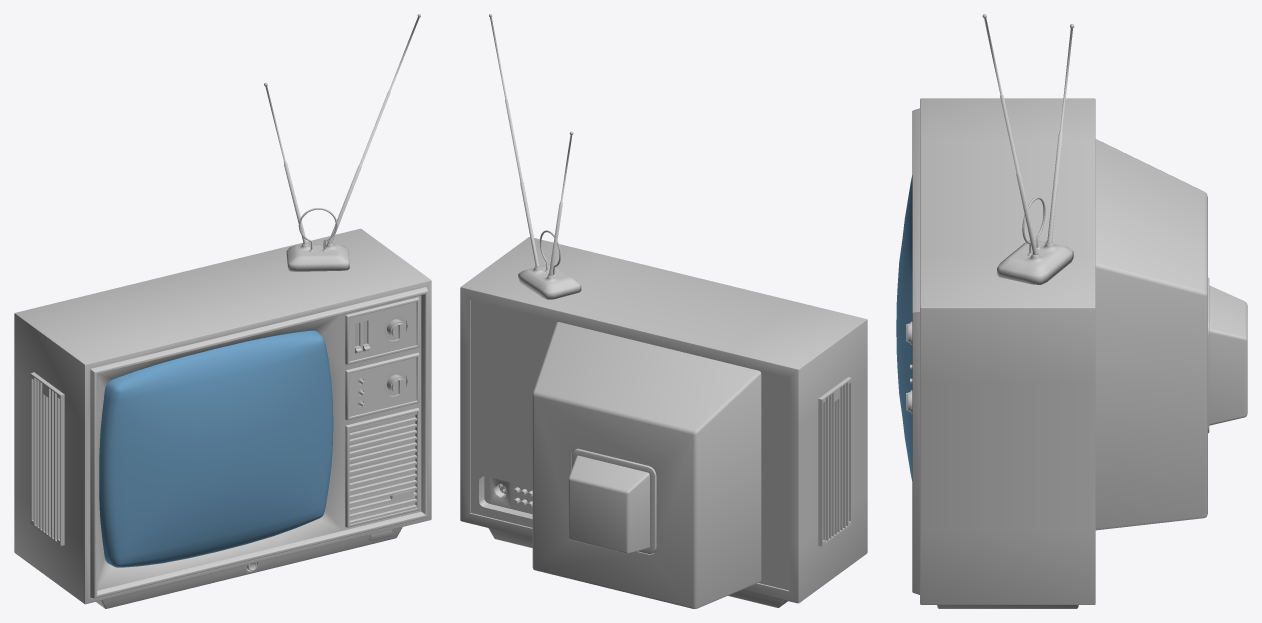
The model's file is Build.fbx.
3 renders of one model, left to right at view 1: azimuth 30°, elevation 25°; view 2: azimuth 150°, elevation 25°; view 3: azimuth 270°, elevation 25°, orthographic. The views are drawn at different scales.
Visible parts, largest first — view 1: TV_Base, TV_Glass, TV_Antena; view 2: TV_Base, TV_Antena; view 3: TV_Base, TV_Antena, TV_Glass.
Part boxes in pixels (left/top/right/bottom): TV_Base: left=14, top=228, right=431, bottom=608; TV_Glass: left=99, top=330, right=333, bottom=567; TV_Antena: left=264, top=14, right=420, bottom=271; TV_Base: left=460, top=237, right=867, bottom=608; TV_Antena: left=489, top=14, right=581, bottom=299; TV_Base: left=912, top=98, right=1247, bottom=608; TV_Antena: left=982, top=14, right=1074, bottom=284; TV_Glass: left=896, top=175, right=912, bottom=480.
Bounding box in the file's own units: 822 × 1075 × 552.
